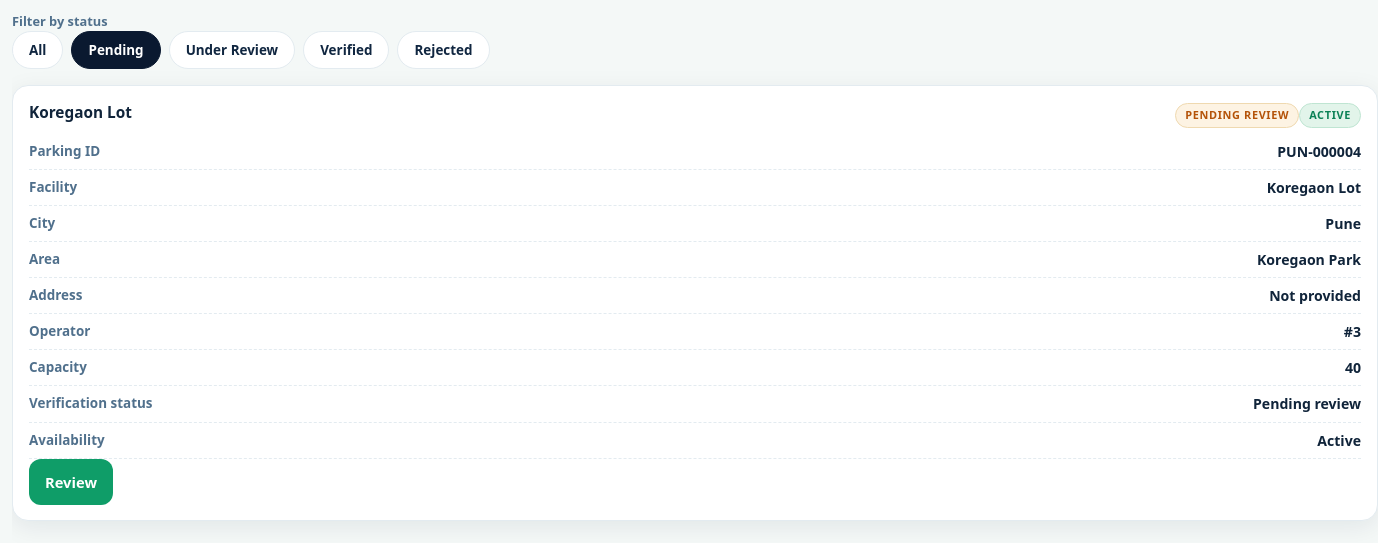
Test: AdminFacilities › shows the correct workflow actions for each verification status
Expected: the button with class "admin-facility-review-button" is shown, [29, 459, 113, 505]
Click the button "Under Review" at coordinates (232, 50), box [169, 31, 295, 69]
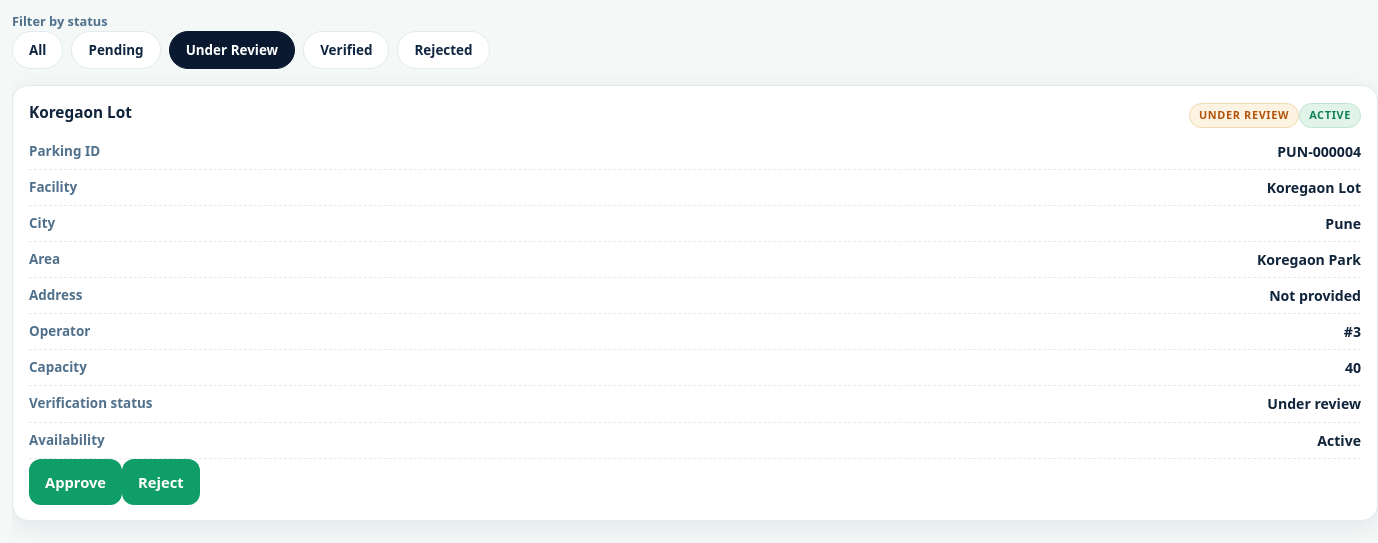
Expected: the button with class "admin-facility-review-button" is gone
Expected: the button with class "admin-facility-approve-button" is shown, [29, 459, 122, 505]
Expected: the button with class "admin-facility-reject-button" is shown, [122, 459, 200, 505]
Click the button "Verified" at coordinates (346, 50), box [303, 31, 390, 69]
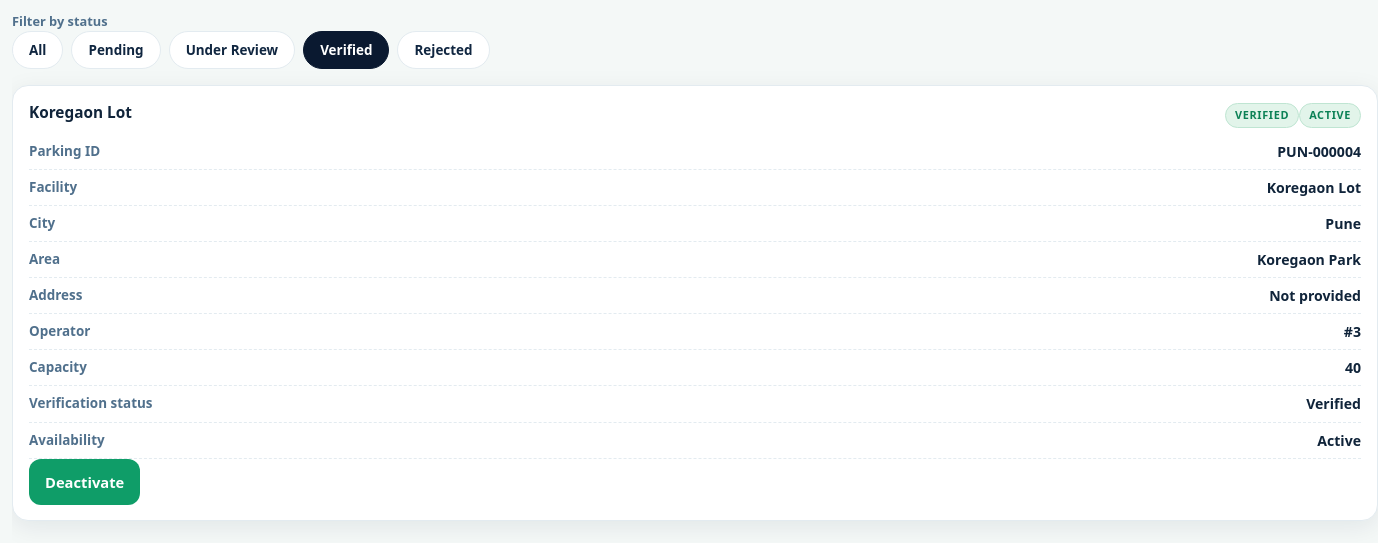
Expected: the list item with class "admin-facility-card" shows "Verified", [1235, 107, 1289, 122]
Expected: the button with class "admin-facility-deactivate-button" is shown, [29, 459, 140, 505]
Click the button "Rejected" at coordinates (444, 50), box [398, 31, 490, 69]
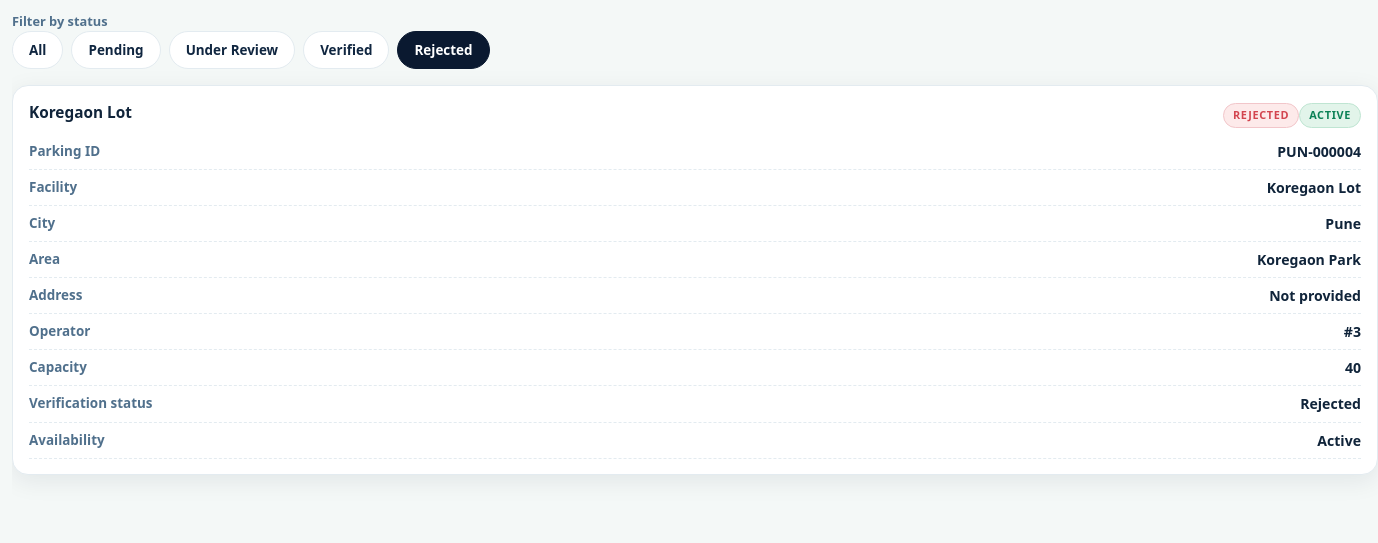
Expected: the list item with class "admin-facility-card" shows "Rejected", [1233, 107, 1289, 122]
Expected: the button "Deactivate" is gone
